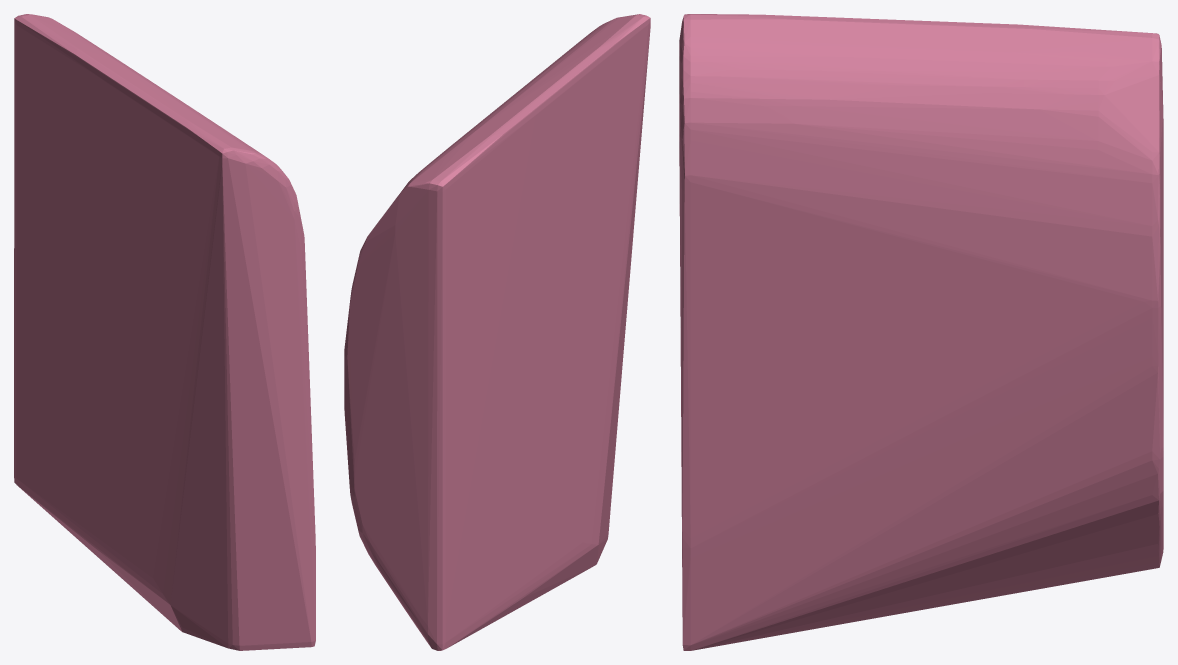
The model's file is right-shoulder-yaw-0_part_24.obj.
3 renders of one model, left to right at view 1: azimuth 30°, elevation 25°; view 2: azimuth 150°, elevation 25°; view 3: azimuth 270°, elevation 25°, orthographic. The views are drawn at different scales.
Size of the model in its own units: 0.0153 by 0.0761 by 0.0568.
